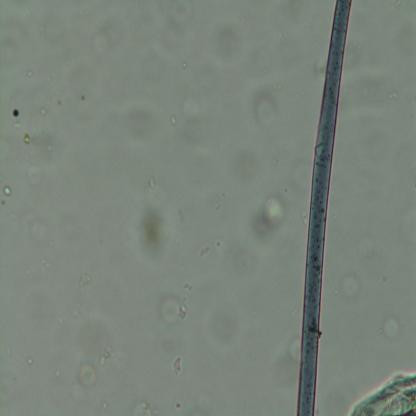Background material: (59, 52, 97, 116), (226, 224, 264, 282), (250, 193, 290, 245), (28, 122, 64, 176), (201, 298, 243, 343), (78, 315, 113, 367), (134, 209, 166, 259), (163, 7, 191, 58), (229, 144, 263, 184), (275, 337, 302, 384), (156, 294, 186, 328), (255, 88, 280, 128), (380, 312, 402, 342), (76, 362, 99, 390), (127, 396, 156, 415), (342, 274, 360, 302), (175, 275, 196, 294), (171, 354, 183, 377), (314, 56, 327, 77), (78, 271, 92, 287), (388, 84, 399, 103), (2, 184, 13, 200), (10, 106, 20, 120), (199, 244, 209, 258), (24, 132, 34, 146), (147, 176, 156, 191), (39, 104, 47, 120), (23, 356, 35, 365), (170, 114, 176, 126)
Cellulose filter fibre: (348, 369, 415, 416)
Microfibre: (295, 0, 353, 415)
